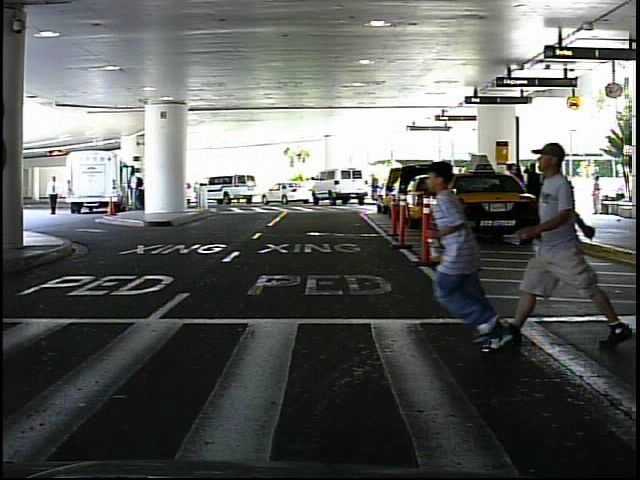person: (519, 121, 614, 356), (428, 154, 535, 356), (46, 173, 64, 217), (591, 172, 604, 218), (368, 172, 384, 204)
